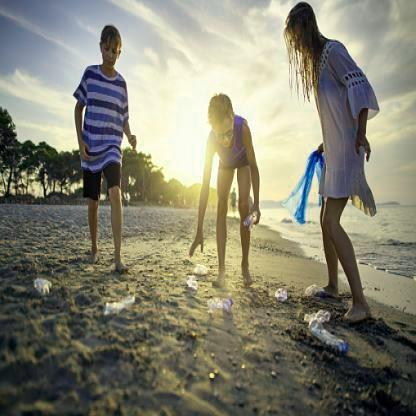Plastic: (299, 310, 346, 351), (95, 291, 138, 318), (29, 277, 53, 299), (205, 296, 231, 313), (273, 286, 288, 304), (185, 273, 200, 290), (196, 264, 213, 274)
